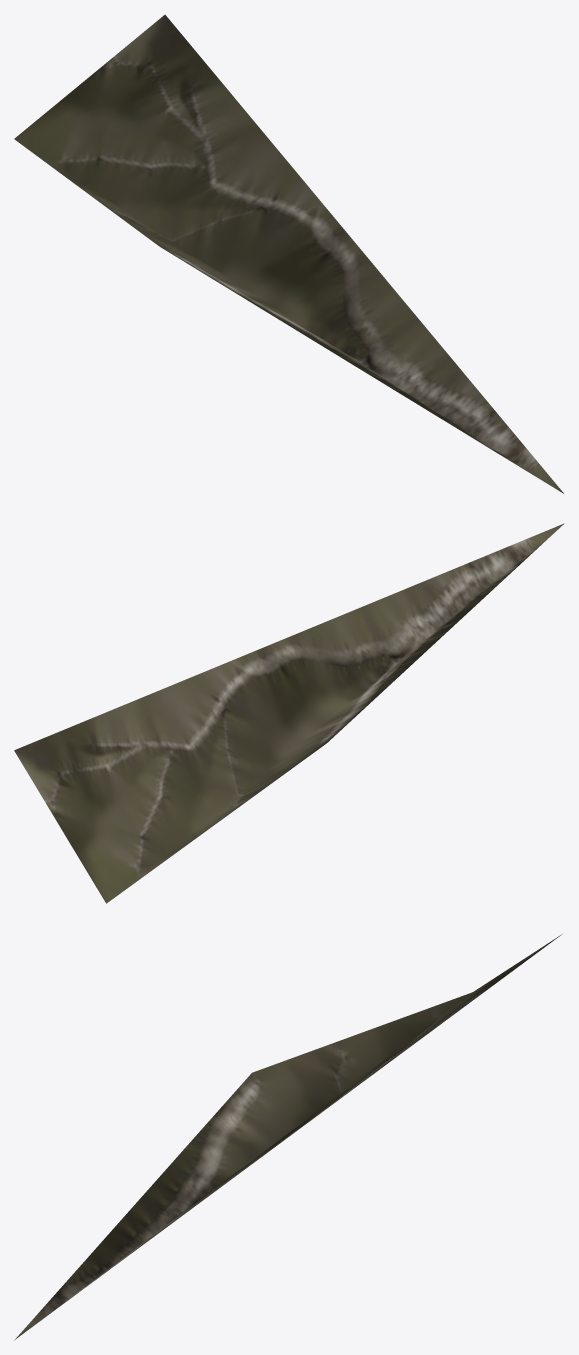
The model's file is TI_Bush_02_Part_04.fbx.
3 views of the same model, one above another, from view 1: azimuth 30°, elevation 25°; view 2: azimuth 150°, elevation 25°; view 3: azimuth 330°, elevation 25° (orthographic). The views are drawn at different scales.
Parts seen in each view (by area): view 1: TI_Bush_02_Part_04; view 2: TI_Bush_02_Part_04; view 3: TI_Bush_02_Part_04.
Boxes of the visible parts, left/top/right/bottom form: TI_Bush_02_Part_04: left=14, top=14, right=563, bottom=493; TI_Bush_02_Part_04: left=14, top=523, right=564, bottom=903; TI_Bush_02_Part_04: left=14, top=934, right=561, bottom=1340.
Size of the model in its own units: 0.1612 by 0.1032 by 0.8562.
